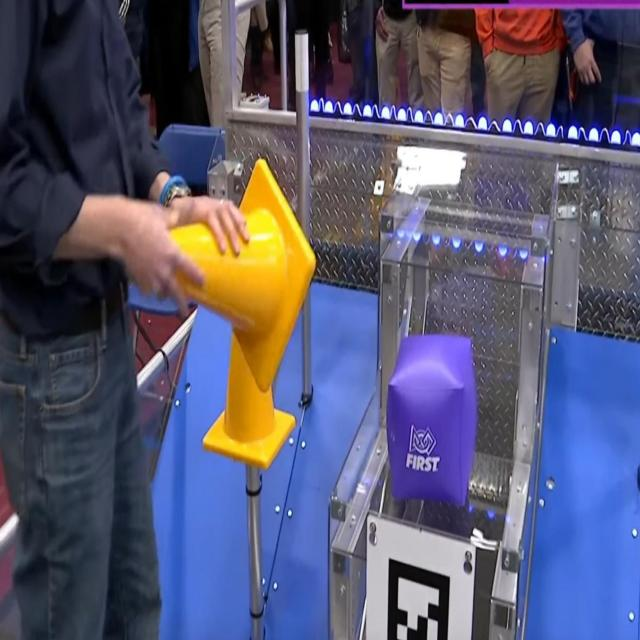frc_cone: (169, 155, 322, 385), (198, 332, 296, 472)
frc_cube: (388, 336, 478, 506)
